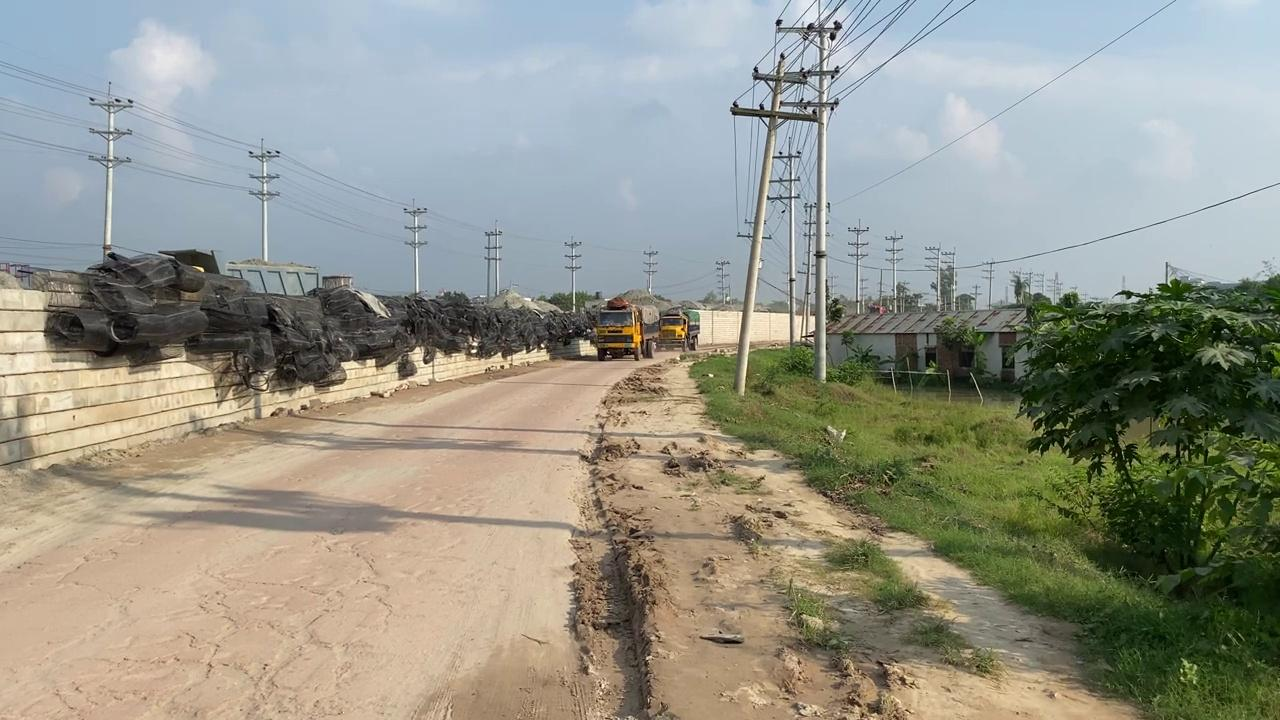Garbage: (29, 249, 596, 391)
Obstacle: (699, 631, 744, 646)
Pole: (732, 52, 785, 396)
Traffic-sign: (1005, 261, 1279, 600)
Tree: (589, 296, 645, 360), (656, 309, 699, 351), (639, 305, 660, 358)
Upstairs: (0, 280, 585, 471)
